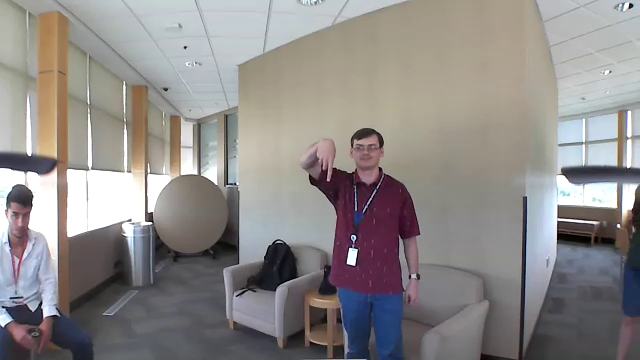down: (312, 133, 343, 187)
